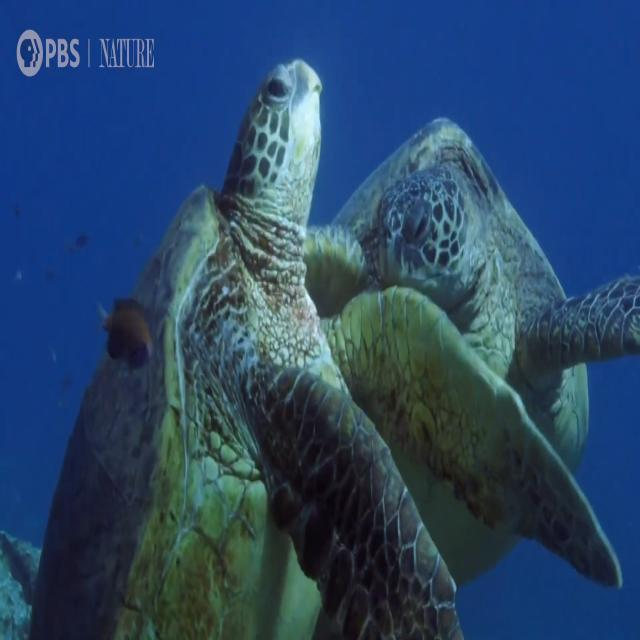Green-Sea-Turtle -Endangered-: (30, 57, 461, 640), (345, 111, 640, 369)
